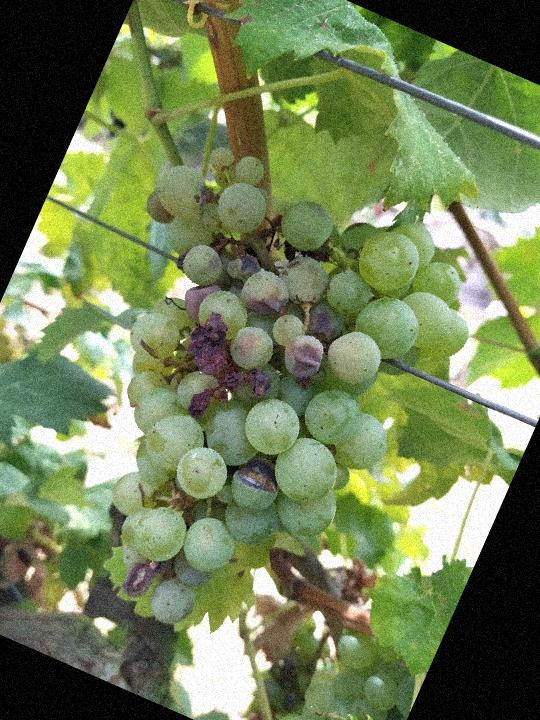grape: (0, 116, 507, 694)
